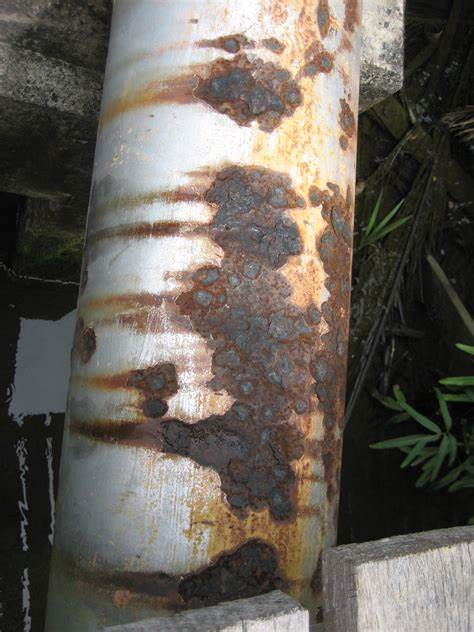rust: (197, 286, 299, 520), (202, 173, 304, 272), (194, 52, 302, 134), (315, 189, 344, 472), (174, 539, 280, 602)
